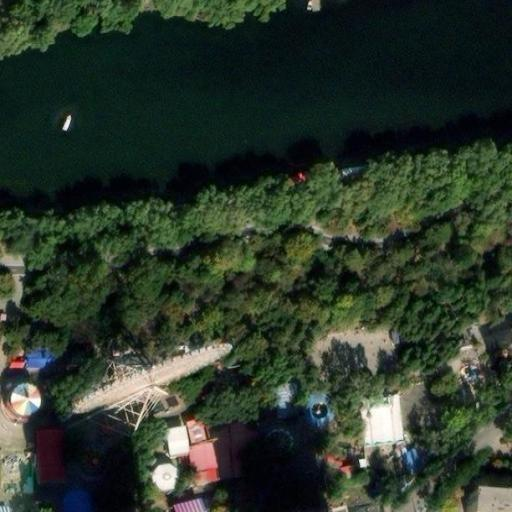building: (180, 409, 256, 487), (359, 395, 404, 442), (0, 376, 41, 420), (35, 428, 66, 481), (160, 422, 186, 458), (482, 487, 512, 512), (173, 497, 208, 512)
